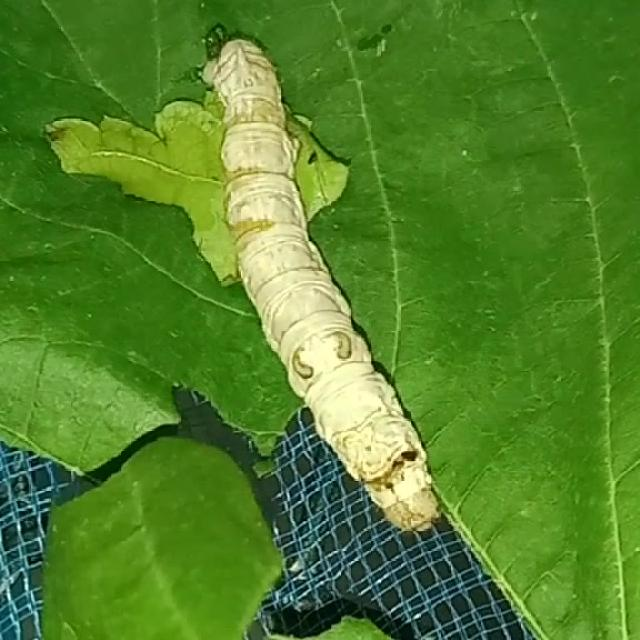Grasserie: (168, 12, 467, 544)
